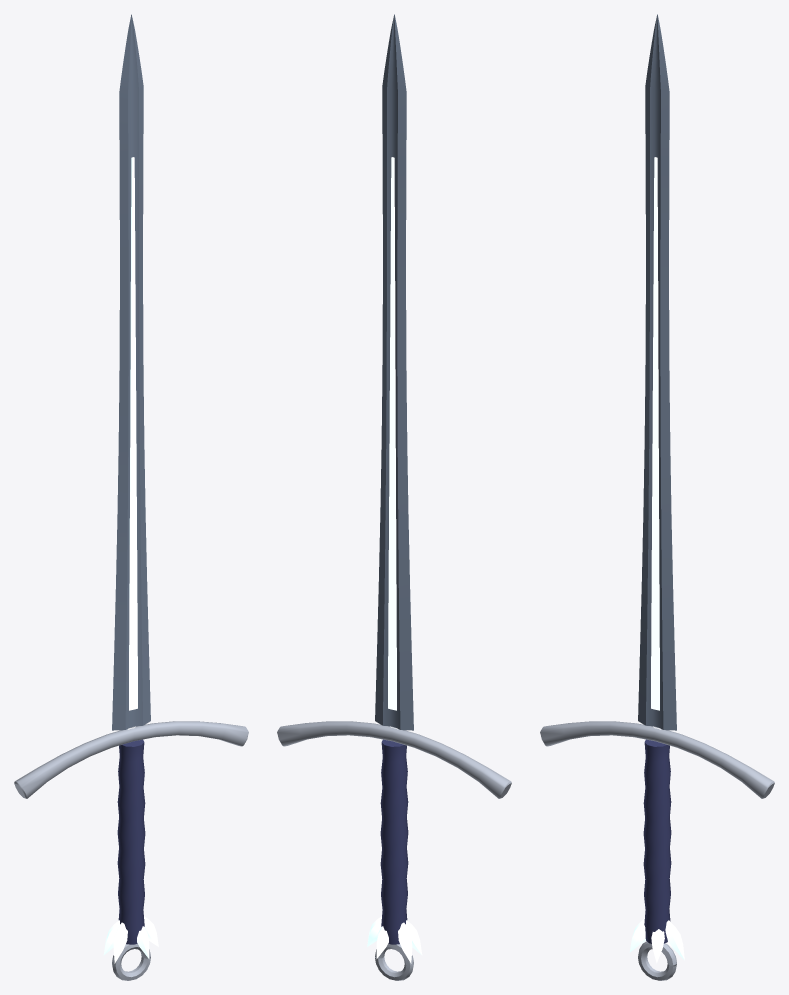
The model's file is fa_mournsteel.glb.
The picture shows the model from 3 angles, left to right: view 1: azimuth 30°, elevation 25°; view 2: azimuth 150°, elevation 25°; view 3: azimuth 330°, elevation 25°; orthographic projection.
Visible parts, largest first — view 1: fa_mournsteel; view 2: fa_mournsteel; view 3: fa_mournsteel.
Boxes of the visible parts, box(x1,y1,x2,y2) form: fa_mournsteel: box(14, 14, 248, 980); fa_mournsteel: box(277, 14, 511, 980); fa_mournsteel: box(540, 14, 774, 980).
Bounding box in the file's own units: 0.4118 × 1.66 × 0.0579.
